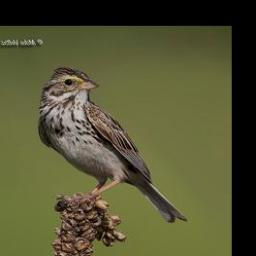Sparrow: (38, 66, 188, 222)
